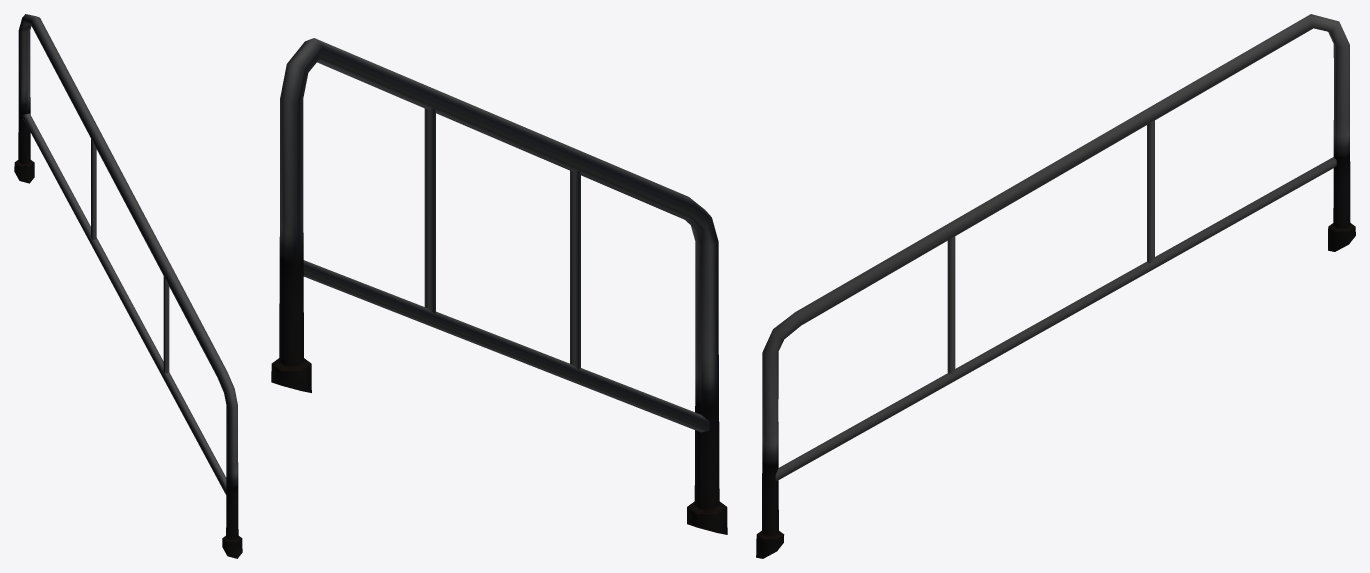
The model's file is Railing_02.FBX.
3 renders of one model, left to right at view 1: azimuth 30°, elevation 25°; view 2: azimuth 150°, elevation 25°; view 3: azimuth 270°, elevation 25°, orthographic. The views are drawn at different scales.
Visible parts, largest first — view 1: Railing_02; view 2: Railing_02; view 3: Railing_02.
Boxes of the visible parts, x1,y1,x2,y2 form: Railing_02: (14,14,242,558); Railing_02: (271,38,727,534); Railing_02: (756,14,1355,558).
Bounding box in the file's own units: 9.84 × 245 × 245.
